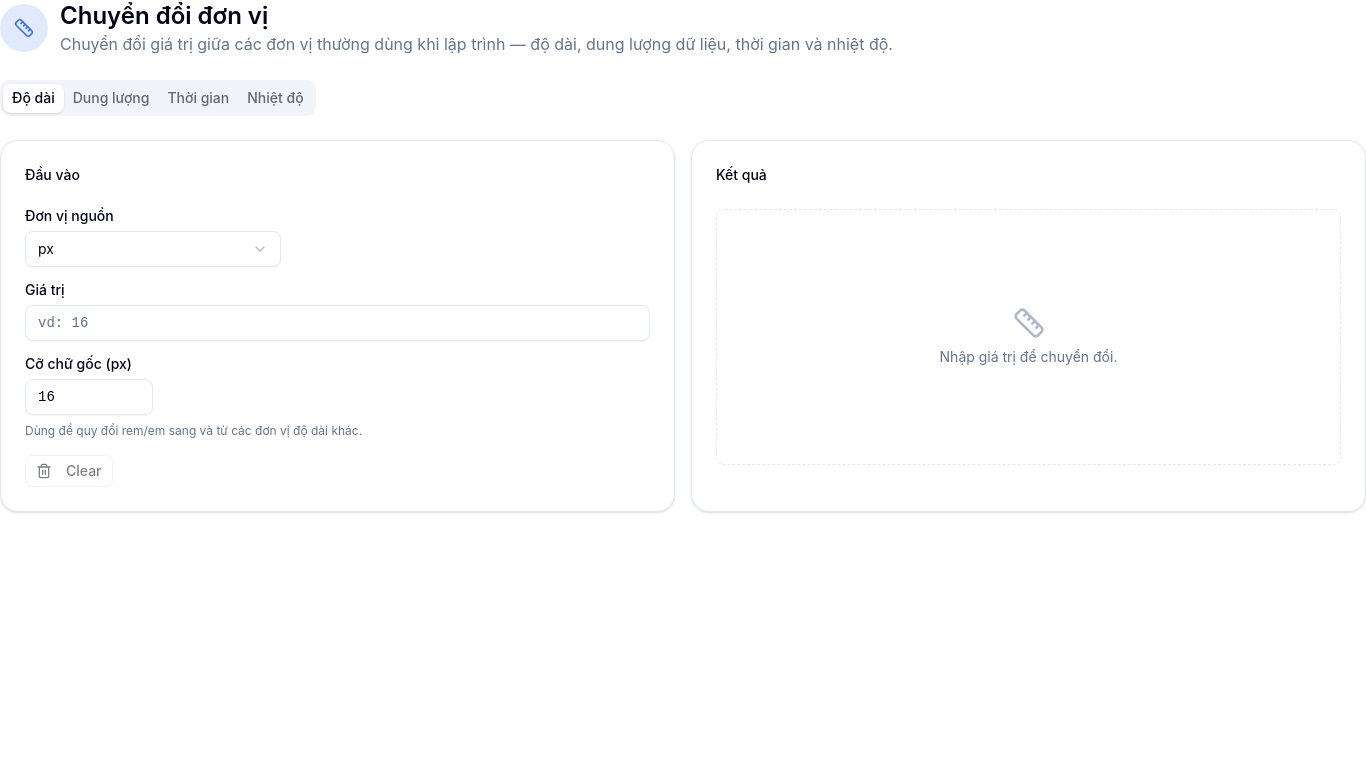
UnitConverterScreen › disables Clear when everything is empty, and clears after confirming
The image size is (1366, 768).
Expected: the button "Clear" is disabled, [25, 455, 112, 487]
Type "16" into the field labelled "Giá trị" at (338, 323), box [25, 305, 650, 341]
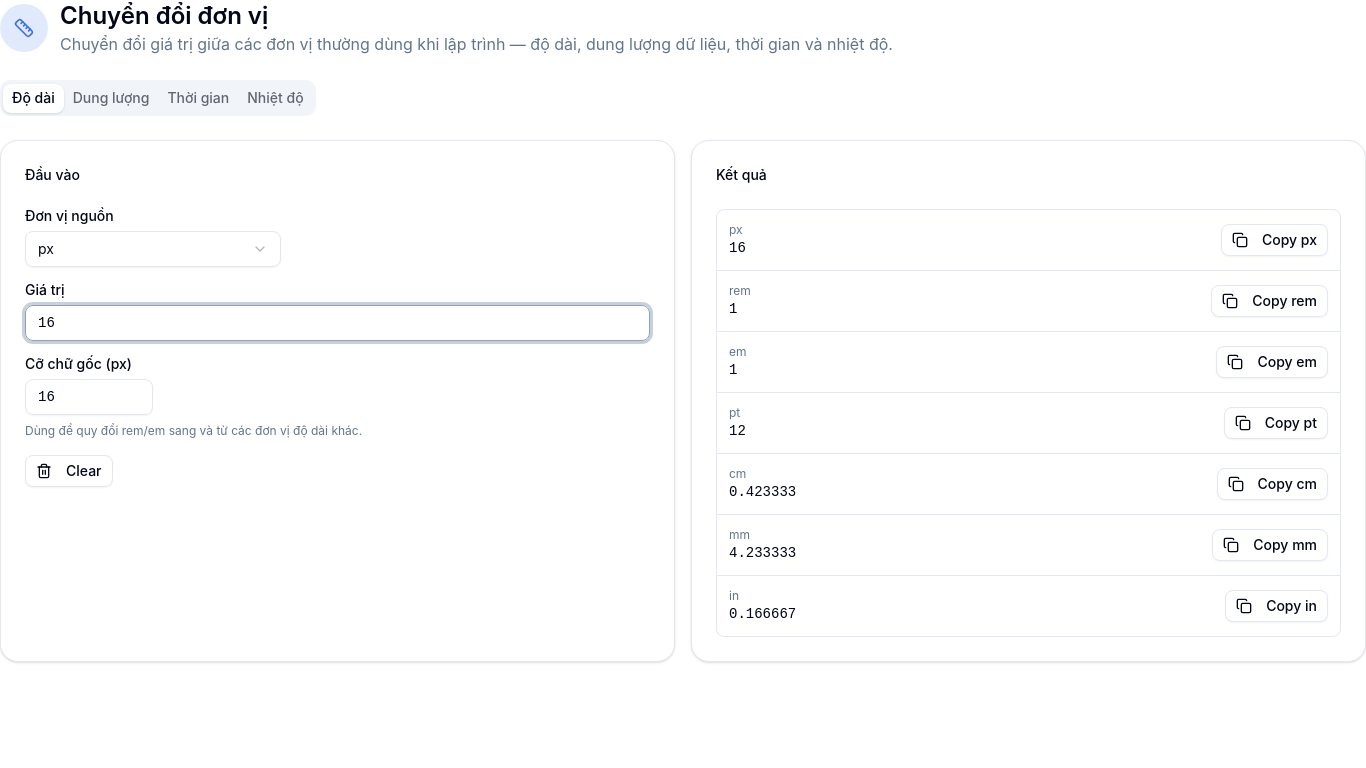
Expected: the button "Clear" is enabled
Click the button "Clear" at (69, 471), box [25, 455, 112, 487]
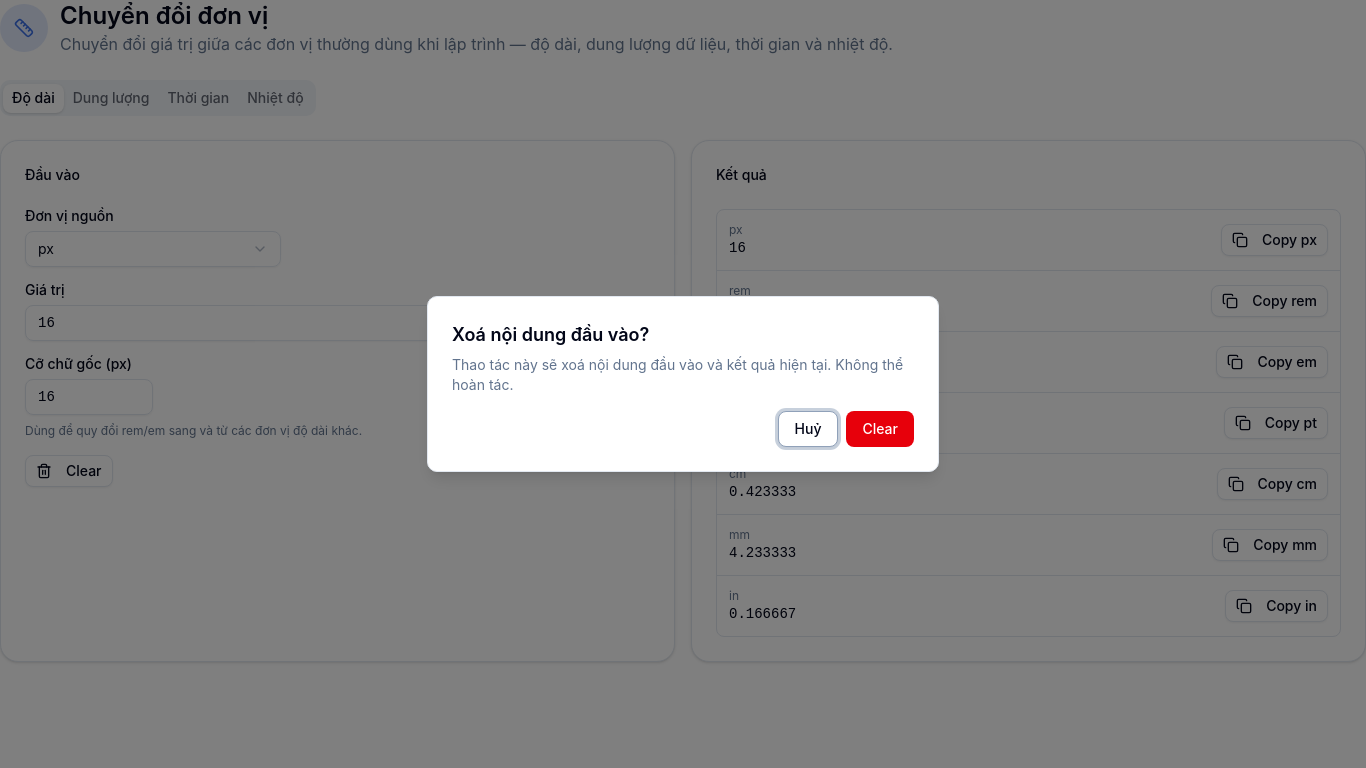
Click the button "Clear" at (880, 429), box [846, 411, 914, 447]
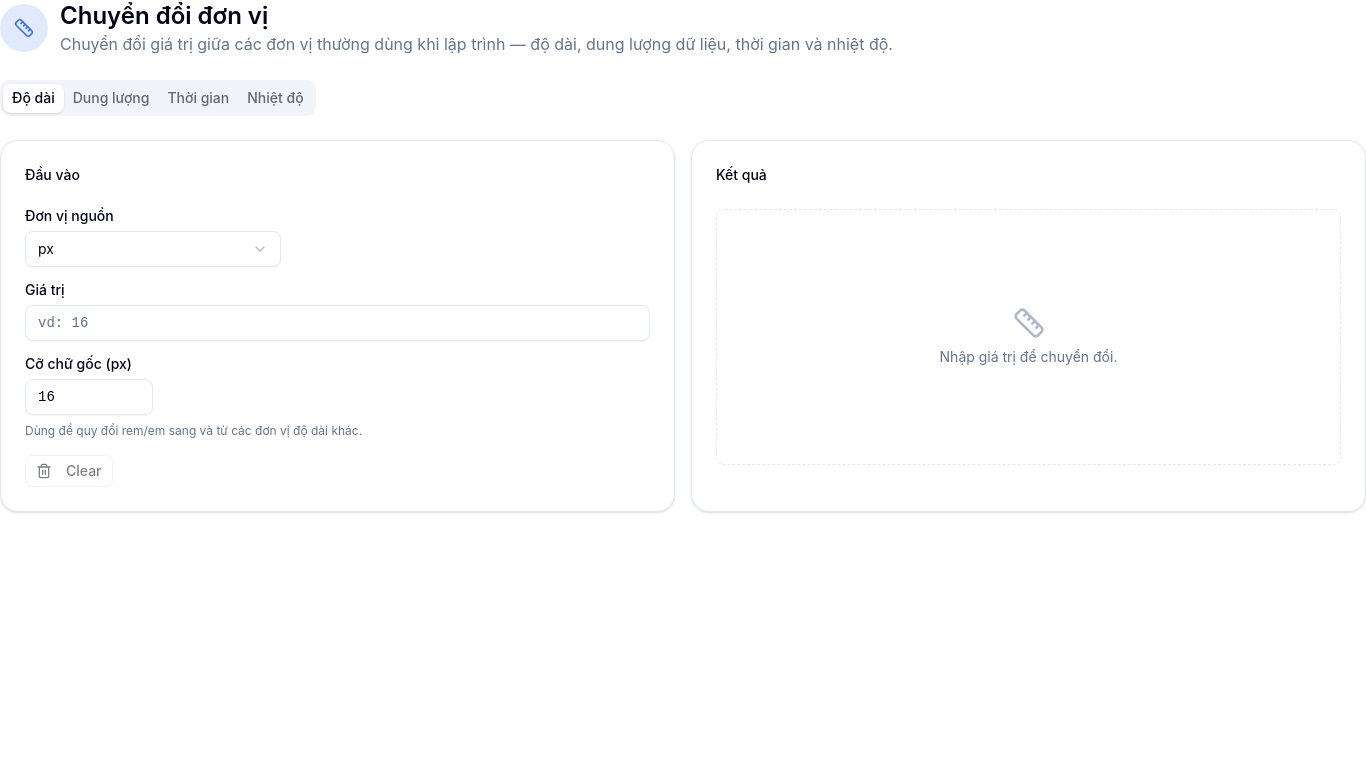
Expected: the field labelled "Giá trị" is empty, [25, 305, 650, 341]
